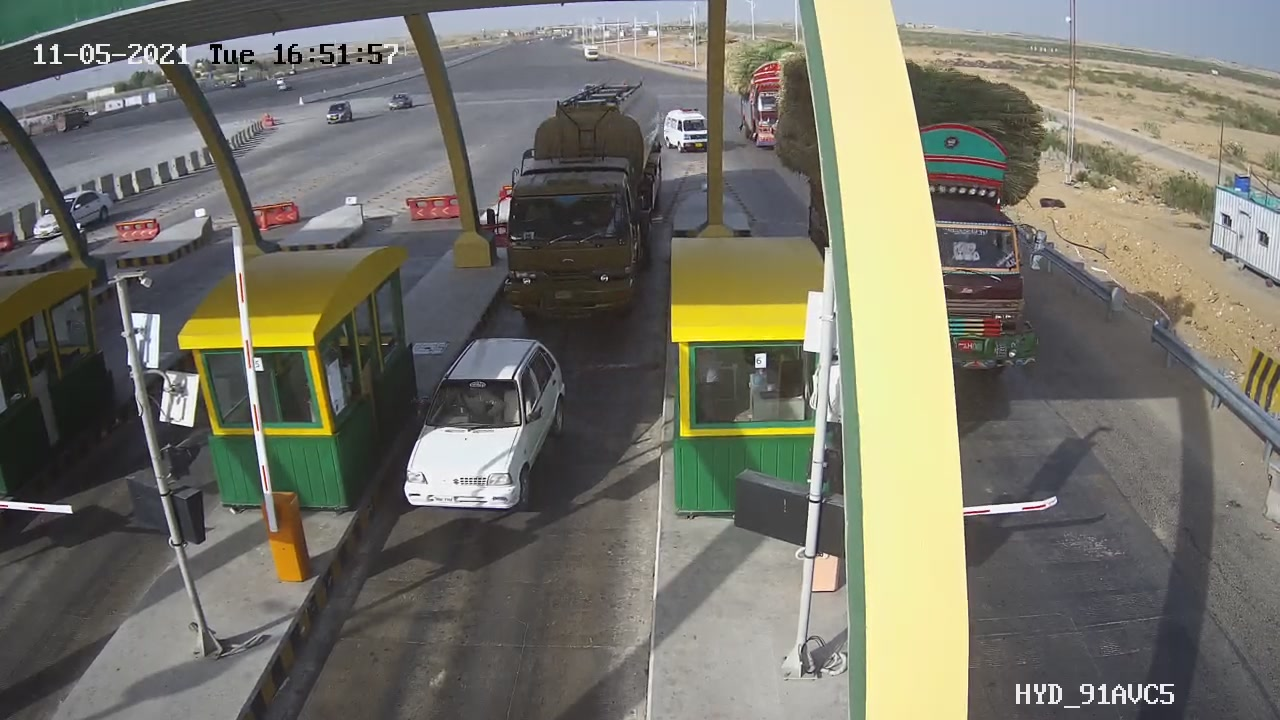F1: (388, 324, 592, 532)
F6: (495, 72, 671, 338)
